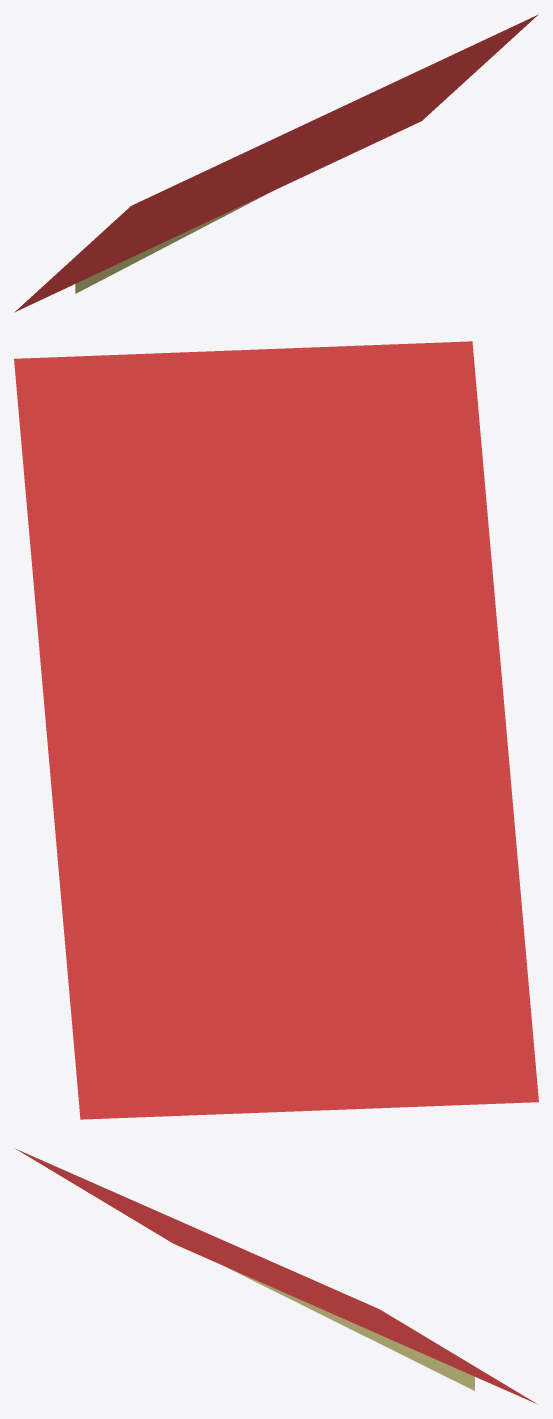
3 renders of one model, top to bottom at view 1: azimuth 30°, elevation 25°; view 2: azimuth 150°, elevation 25°; view 3: azimuth 270°, elevation 25°, orthographic. The views are drawn at different scales.
Bounding box in the file's own units: 10.51 × 11.41 × 6.47.
